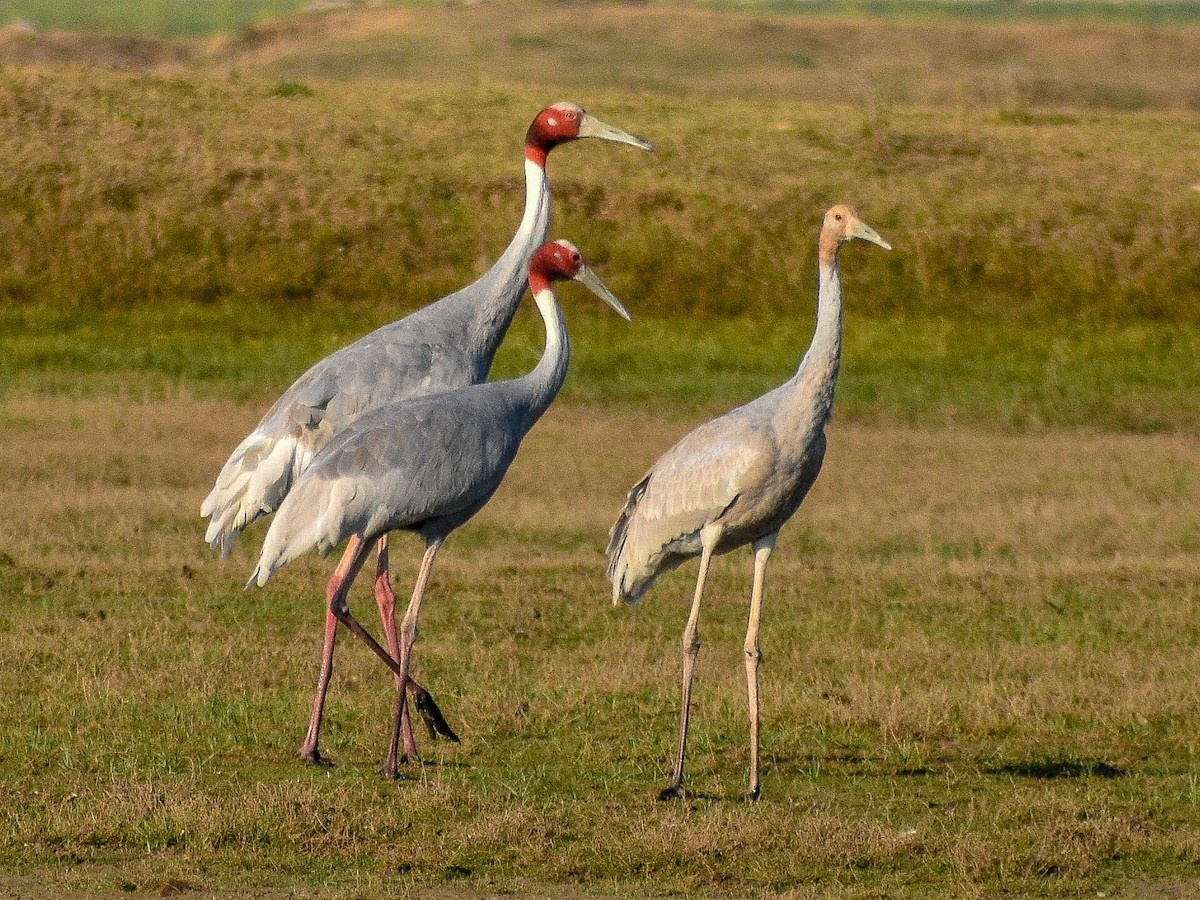crane: (278, 226, 634, 777), (618, 202, 905, 788), (489, 91, 660, 252)
